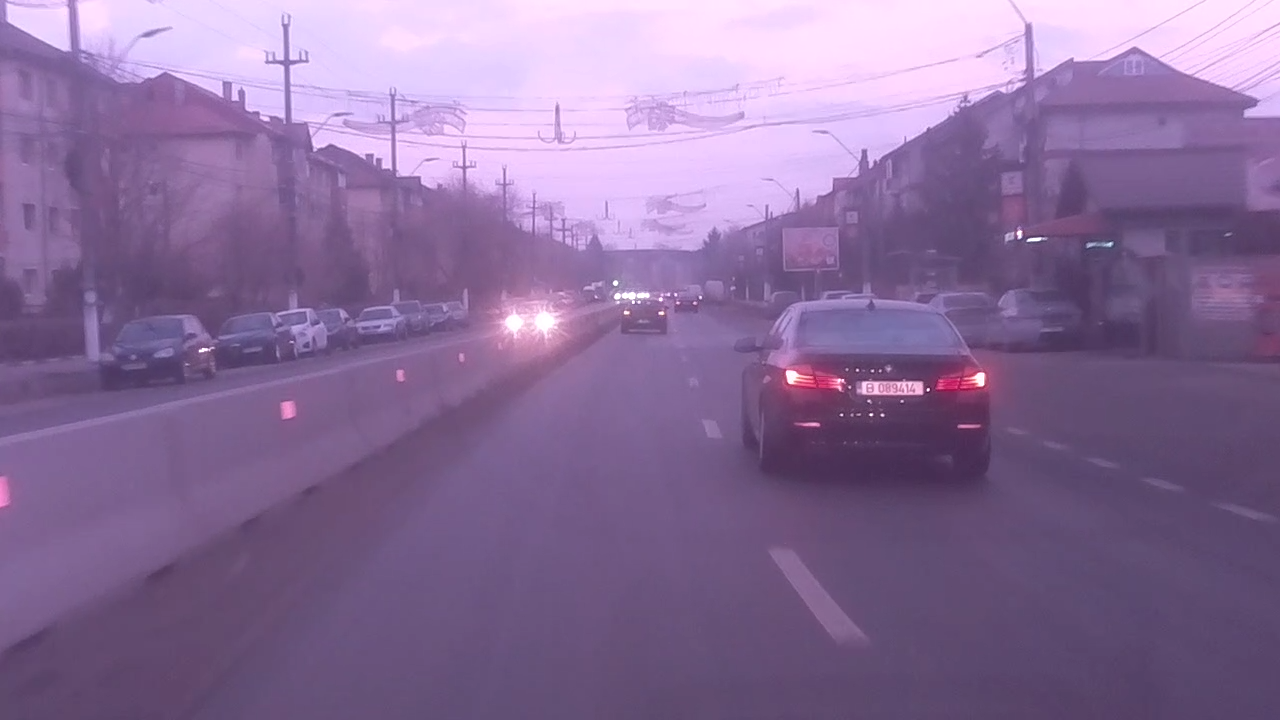license-plate: (854, 378, 927, 398)
